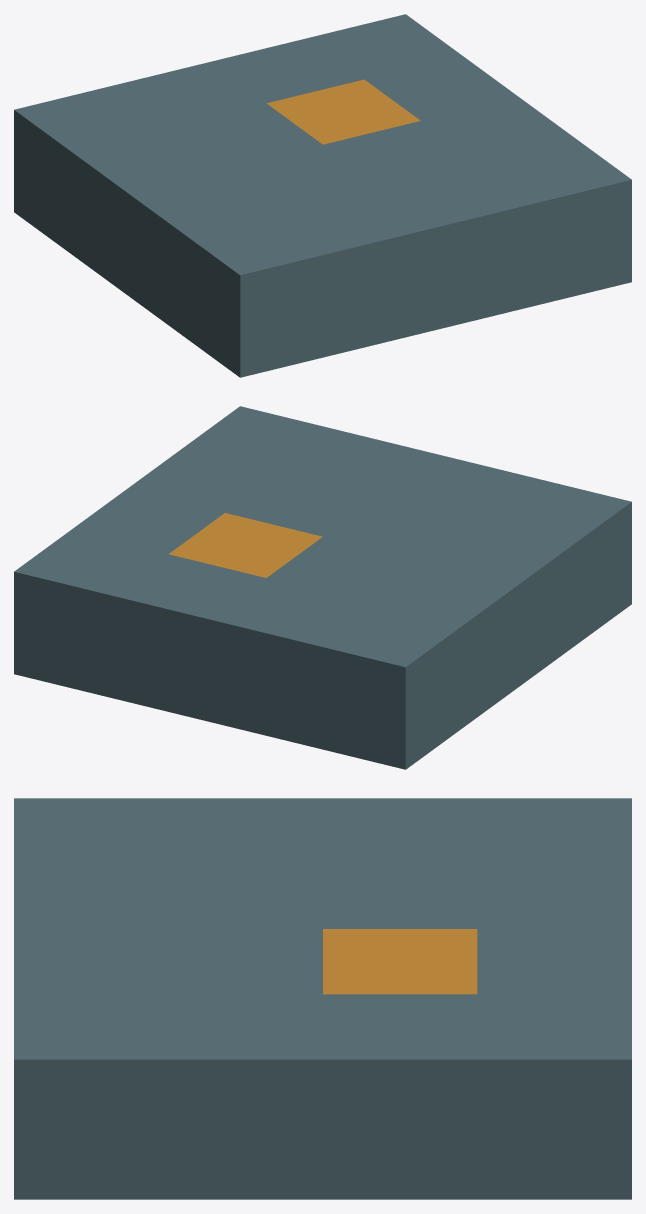
File: e1c21924-dbeb-4ce1-9fc2-7ed5ffa0b6ea.glb
3 views of the same model, one above another, from view 1: azimuth 30°, elevation 25°; view 2: azimuth 150°, elevation 25°; view 3: azimuth 270°, elevation 25° (orthographic). The views are drawn at different scales.
Visible parts, largest first — view 1: e1c21924-dbeb-4ce1-9fc2-7ed5ffa0b6ea:chunk:0,0,-1; view 2: e1c21924-dbeb-4ce1-9fc2-7ed5ffa0b6ea:chunk:0,0,-1; view 3: e1c21924-dbeb-4ce1-9fc2-7ed5ffa0b6ea:chunk:0,0,-1.
Part boxes in pixels (bbox=[...]): e1c21924-dbeb-4ce1-9fc2-7ed5ffa0b6ea:chunk:0,0,-1: bbox=[14, 14, 631, 377]; e1c21924-dbeb-4ce1-9fc2-7ed5ffa0b6ea:chunk:0,0,-1: bbox=[14, 406, 631, 769]; e1c21924-dbeb-4ce1-9fc2-7ed5ffa0b6ea:chunk:0,0,-1: bbox=[14, 798, 631, 1199].
Bounding box in the file's own units: 1 × 0.25 × 1.
